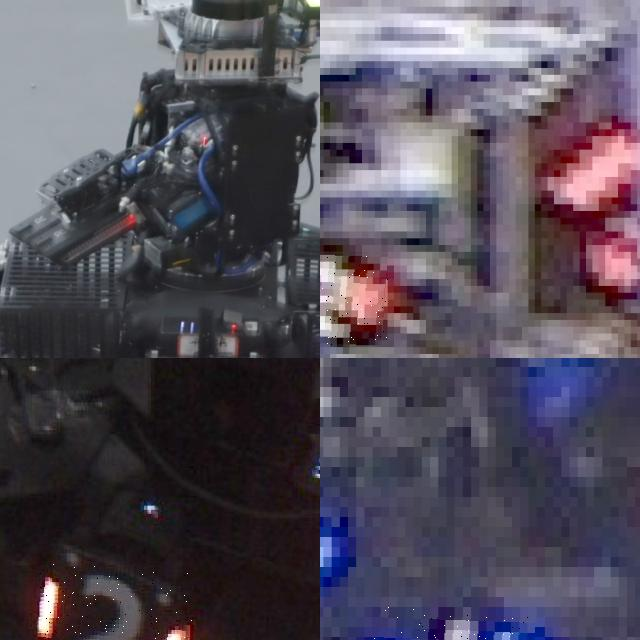B4: (372, 607, 536, 640)
R2: (37, 563, 192, 640)
R3: (320, 245, 387, 347)
